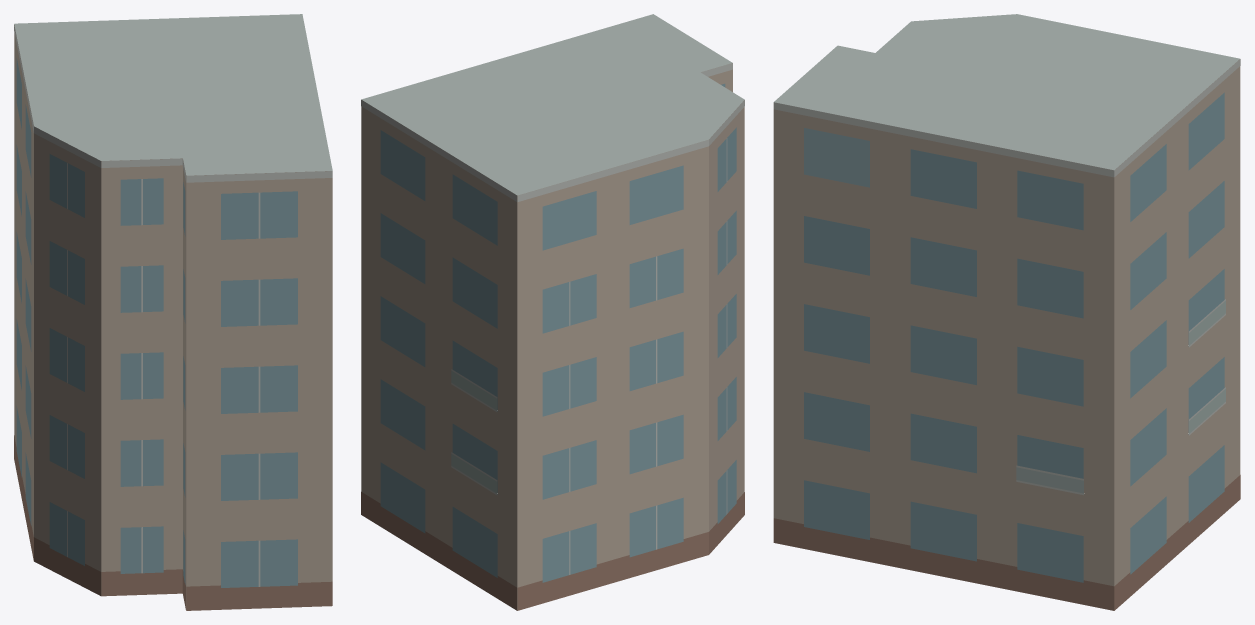
File: survey-upis-32670827.glb
3 renders of one model, left to right at view 1: azimuth 30°, elevation 25°; view 2: azimuth 150°, elevation 25°; view 3: azimuth 270°, elevation 25°, orthographic. The views are drawn at different scales.
Visible parts, largest first — view 1: survey-upis-32670827.tmp; view 2: survey-upis-32670827.tmp; view 3: survey-upis-32670827.tmp.
Boxes of the visible parts, box(x1,y1,x2,y2) form: survey-upis-32670827.tmp: box(14, 14, 332, 610); survey-upis-32670827.tmp: box(361, 14, 744, 610); survey-upis-32670827.tmp: box(773, 14, 1240, 610).
Size of the model in its own units: 11.5 by 15.1 by 14.51.
